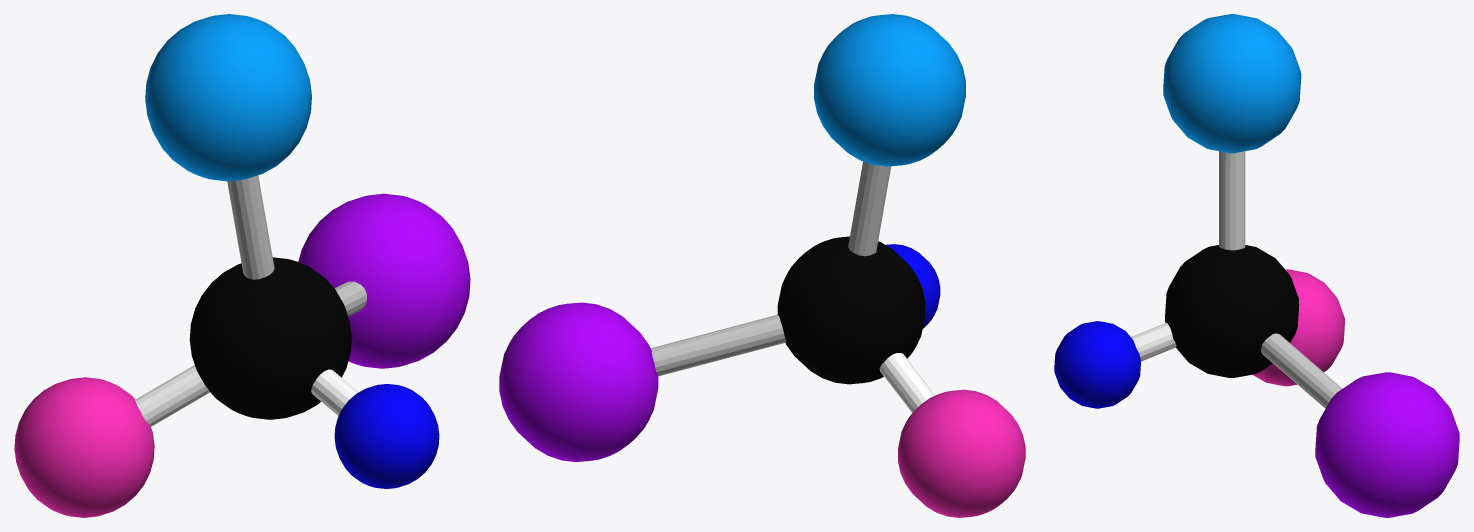
The model's file is bromo-cloro-fluor-metano_2.obj.
3 renders of one model, left to right at view 1: azimuth 30°, elevation 25°; view 2: azimuth 150°, elevation 25°; view 3: azimuth 270°, elevation 25°, orthographic. The views are drawn at different scales.
Visible parts, largest first — view 1: Shape_Sphere.008_Shape_Sphere.044, Shape_Sphere.007_Shape_Sphere.043, Shape_Sphere.005_Shape_Sphere.041, Shape_Sphere.006_Shape_Sphere.042, Shape_Sphere.009_Shape_Sphere, Shape_Cylinder.012_Shape_Cylinder.068, Shape_Cylinder.013_Shape_Cylinder.069, Shape_Cylinder.009_Shape_Cylinder.065, Shape_Cylinder.008_Shape_Cylinder.064, Shape_Cylinder.011_Shape_Cylinder.067, Shape_Cylinder.014_Shape_Cylinder.070, Shape_Cylinder.015_Shape_Cylinder.071; view 2: Shape_Sphere.007_Shape_Sphere.043, Shape_Sphere.008_Shape_Sphere.044, Shape_Sphere.005_Shape_Sphere.041, Shape_Sphere.006_Shape_Sphere.042, Shape_Cylinder.010_Shape_Cylinder.066, Shape_Cylinder.011_Shape_Cylinder.067, Shape_Sphere.009_Shape_Sphere, Shape_Cylinder.012_Shape_Cylinder.068, Shape_Cylinder.013_Shape_Cylinder.069, Shape_Cylinder.008_Shape_Cylinder.064, Shape_Cylinder.009_Shape_Cylinder.065; view 3: Shape_Sphere.007_Shape_Sphere.043, Shape_Sphere.008_Shape_Sphere.044, Shape_Sphere.005_Shape_Sphere.041, Shape_Sphere.009_Shape_Sphere, Shape_Sphere.006_Shape_Sphere.042, Shape_Cylinder.012_Shape_Cylinder.068, Shape_Cylinder.013_Shape_Cylinder.069, Shape_Cylinder.010_Shape_Cylinder.066, Shape_Cylinder.011_Shape_Cylinder.067, Shape_Cylinder.015_Shape_Cylinder.071, Shape_Cylinder.014_Shape_Cylinder.070.
Boxes of the visible parts, x1,y1,x2,y2 form: Shape_Sphere.008_Shape_Sphere.044: [145, 14, 311, 181]; Shape_Sphere.007_Shape_Sphere.043: [298, 193, 470, 368]; Shape_Sphere.005_Shape_Sphere.041: [189, 257, 351, 419]; Shape_Sphere.006_Shape_Sphere.042: [14, 377, 154, 517]; Shape_Sphere.009_Shape_Sphere: [334, 384, 439, 488]; Shape_Cylinder.012_Shape_Cylinder.068: [234, 218, 274, 279]; Shape_Cylinder.013_Shape_Cylinder.069: [227, 175, 265, 227]; Shape_Cylinder.009_Shape_Cylinder.065: [135, 382, 180, 426]; Shape_Cylinder.008_Shape_Cylinder.064: [165, 365, 209, 409]; Shape_Cylinder.011_Shape_Cylinder.067: [334, 281, 366, 316]; Shape_Cylinder.014_Shape_Cylinder.070: [311, 369, 346, 406]; Shape_Cylinder.015_Shape_Cylinder.071: [326, 382, 358, 415]; Shape_Sphere.007_Shape_Sphere.043: [499, 302, 658, 461]; Shape_Sphere.008_Shape_Sphere.044: [814, 14, 965, 166]; Shape_Sphere.005_Shape_Sphere.041: [777, 236, 925, 384]; Shape_Sphere.006_Shape_Sphere.042: [898, 389, 1025, 517]; Shape_Cylinder.010_Shape_Cylinder.066: [714, 315, 786, 359]; Shape_Cylinder.011_Shape_Cylinder.067: [651, 331, 721, 376]; Shape_Sphere.009_Shape_Sphere: [886, 244, 940, 328]; Shape_Cylinder.012_Shape_Cylinder.068: [848, 200, 884, 256]; Shape_Cylinder.013_Shape_Cylinder.069: [856, 161, 891, 208]; Shape_Cylinder.008_Shape_Cylinder.064: [879, 353, 920, 393]; Shape_Cylinder.009_Shape_Cylinder.065: [897, 375, 934, 412]; Shape_Sphere.007_Shape_Sphere.043: [1315, 372, 1459, 517]; Shape_Sphere.008_Shape_Sphere.044: [1163, 14, 1301, 153]; Shape_Sphere.005_Shape_Sphere.041: [1165, 245, 1299, 377]; Shape_Sphere.009_Shape_Sphere: [1054, 321, 1140, 408]; Shape_Sphere.006_Shape_Sphere.042: [1252, 269, 1344, 386]; Shape_Cylinder.012_Shape_Cylinder.068: [1219, 198, 1245, 250]; Shape_Cylinder.013_Shape_Cylinder.069: [1219, 151, 1245, 201]; Shape_Cylinder.010_Shape_Cylinder.066: [1261, 333, 1315, 385]; Shape_Cylinder.011_Shape_Cylinder.067: [1297, 365, 1342, 408]; Shape_Cylinder.015_Shape_Cylinder.071: [1131, 330, 1158, 361]; Shape_Cylinder.014_Shape_Cylinder.070: [1149, 323, 1176, 354].
Size of the model in its own units: 3.59 by 3.35 by 3.04.
